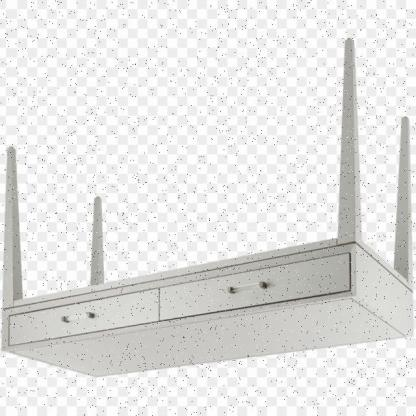Table: (0, 39, 415, 416)
